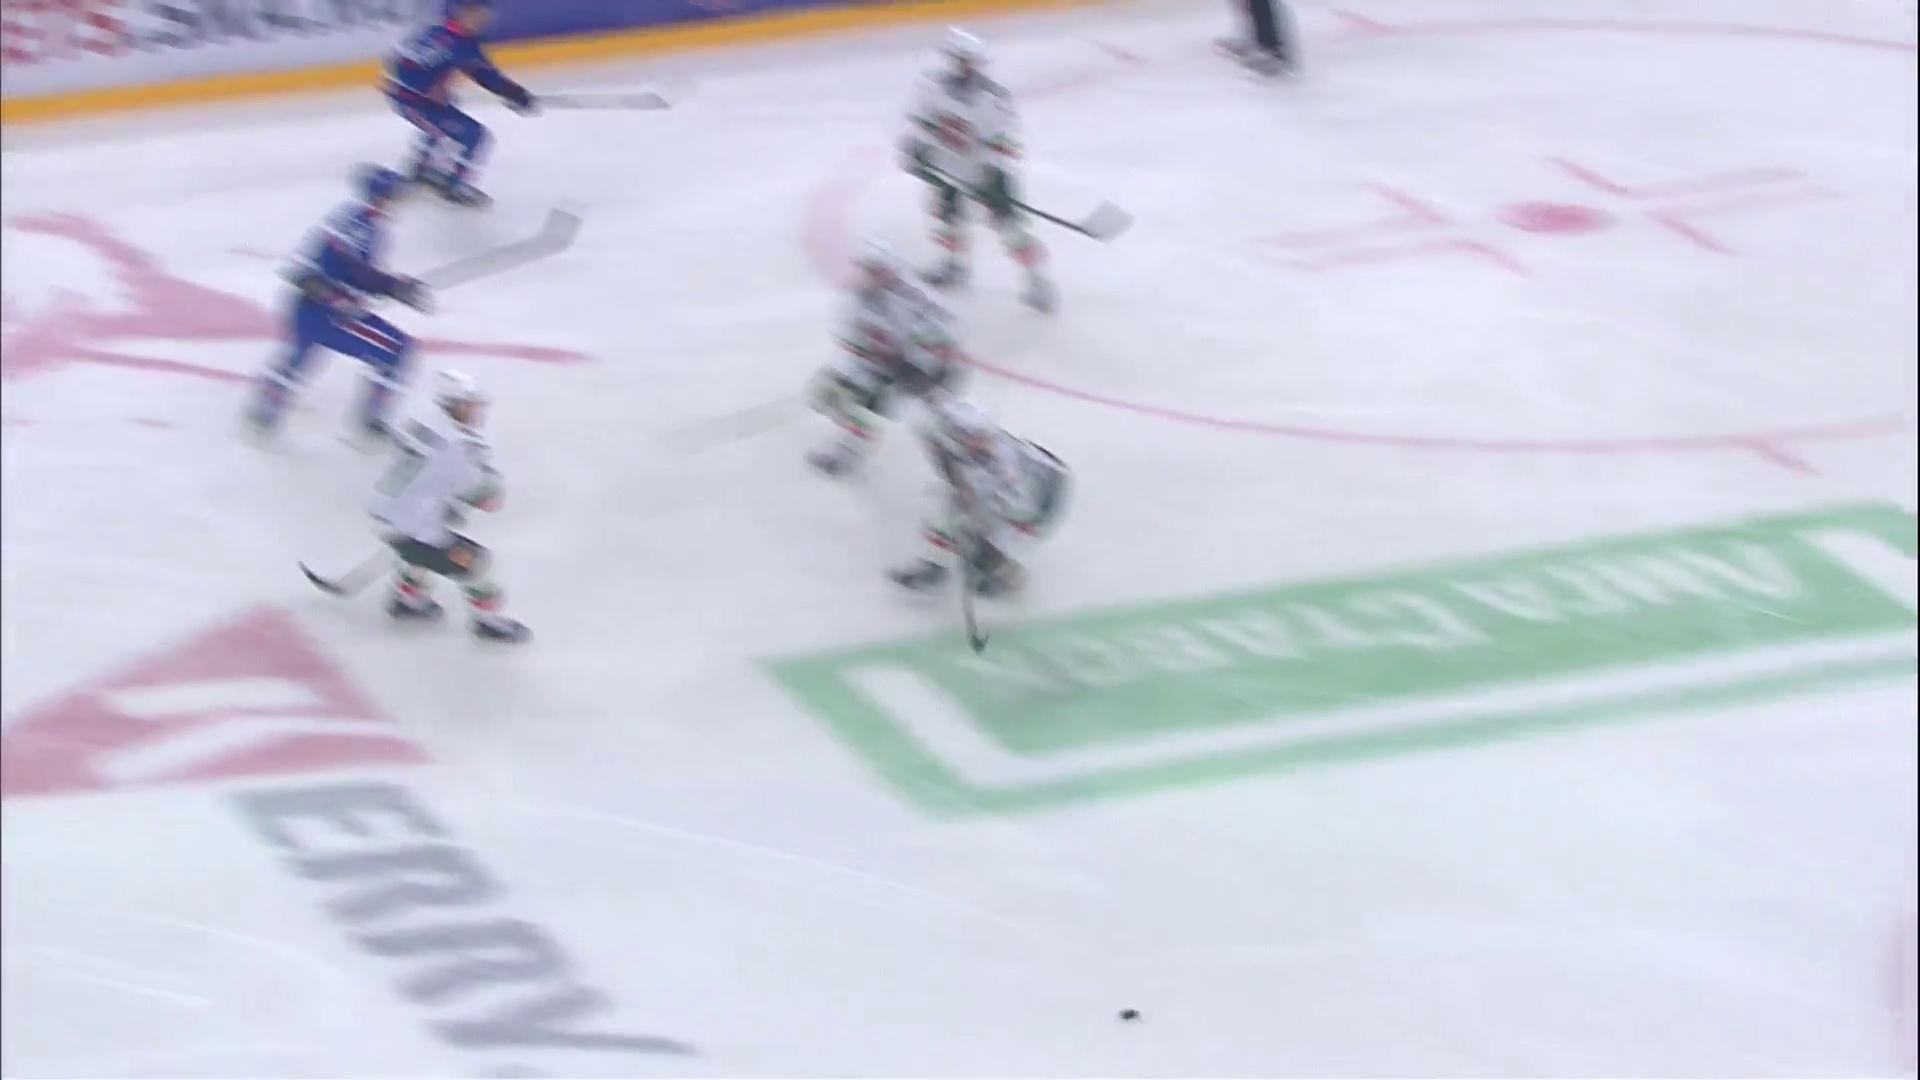ball: (1120, 1009, 1142, 1021)
